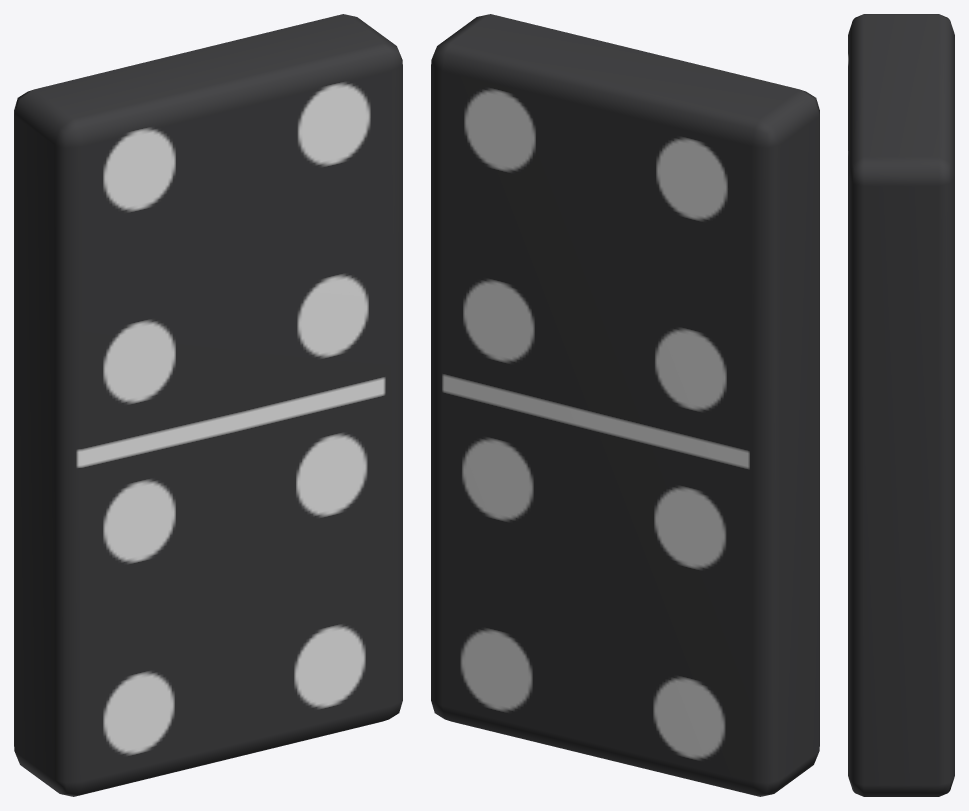
Rendered from domino.fbx.
3 views of the same model, side by side, from view 1: azimuth 30°, elevation 25°; view 2: azimuth 150°, elevation 25°; view 3: azimuth 270°, elevation 25° (orthographic). The views are drawn at different scales.
Visible parts, largest first — view 1: domino; view 2: domino; view 3: domino.
Part boxes in pixels (x1,y1,x2,y2): domino: [14, 14, 402, 796]; domino: [431, 14, 819, 796]; domino: [848, 14, 954, 796].
Bounding box in the file's own units: 61.08 × 114 × 17.2.
